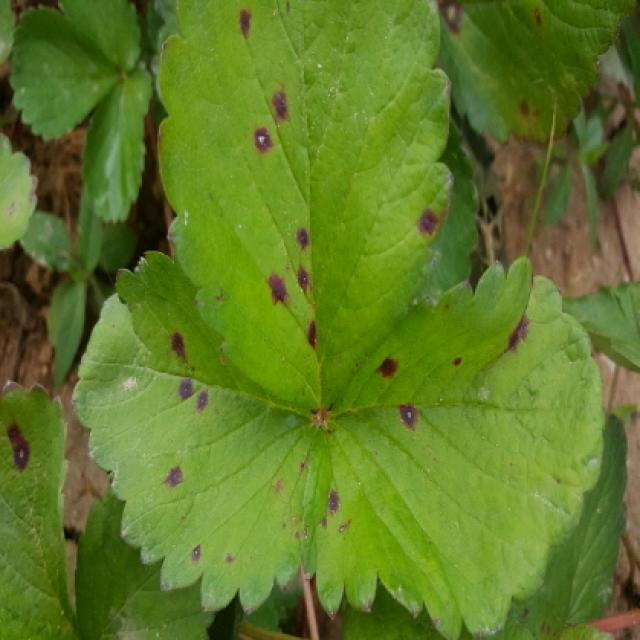Leaf Spot: (157, 0, 456, 412), (300, 257, 607, 638), (69, 246, 323, 619), (430, 0, 640, 147), (2, 381, 79, 638), (2, 133, 40, 251)
